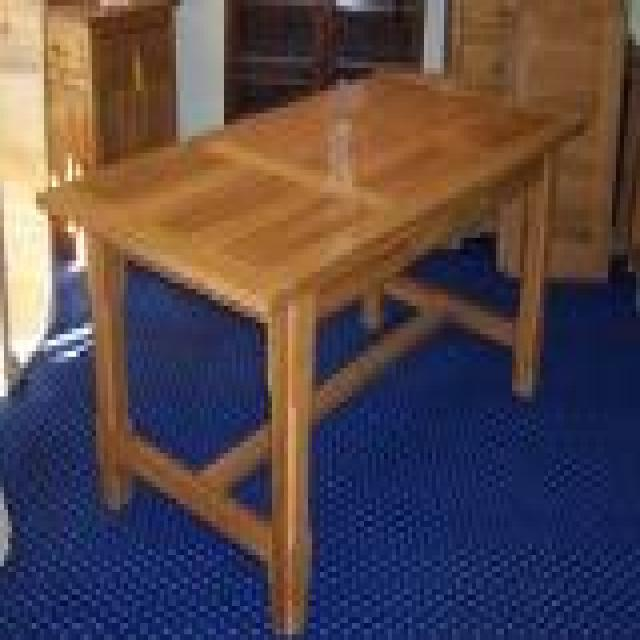table: (33, 66, 586, 637)
